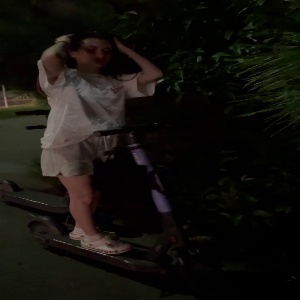human on a scooter: (22, 21, 239, 291)
